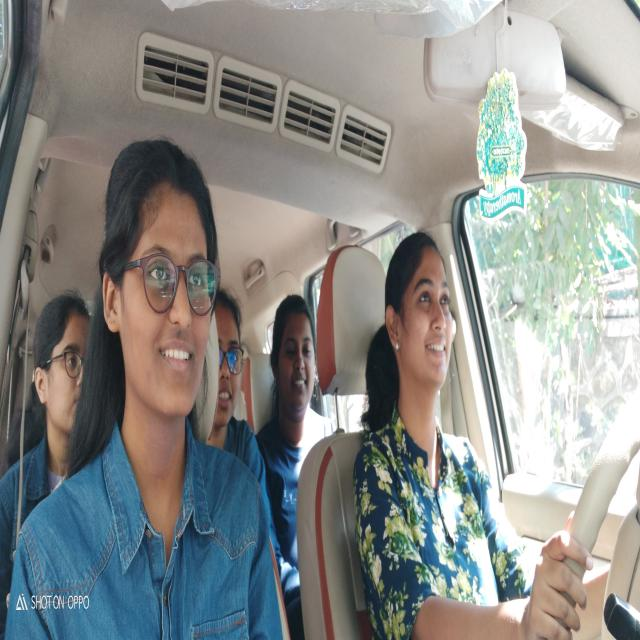person: (99, 137, 220, 415), (382, 226, 457, 404), (30, 293, 95, 438), (270, 290, 316, 423), (217, 290, 248, 430)
